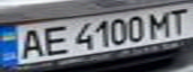0: (124, 12, 151, 42), (109, 16, 130, 46)
1: (90, 17, 112, 48)
4: (72, 19, 96, 52)
A: (12, 26, 48, 61)
E: (36, 22, 72, 56)
M: (145, 9, 175, 38)
T: (163, 6, 193, 35)
